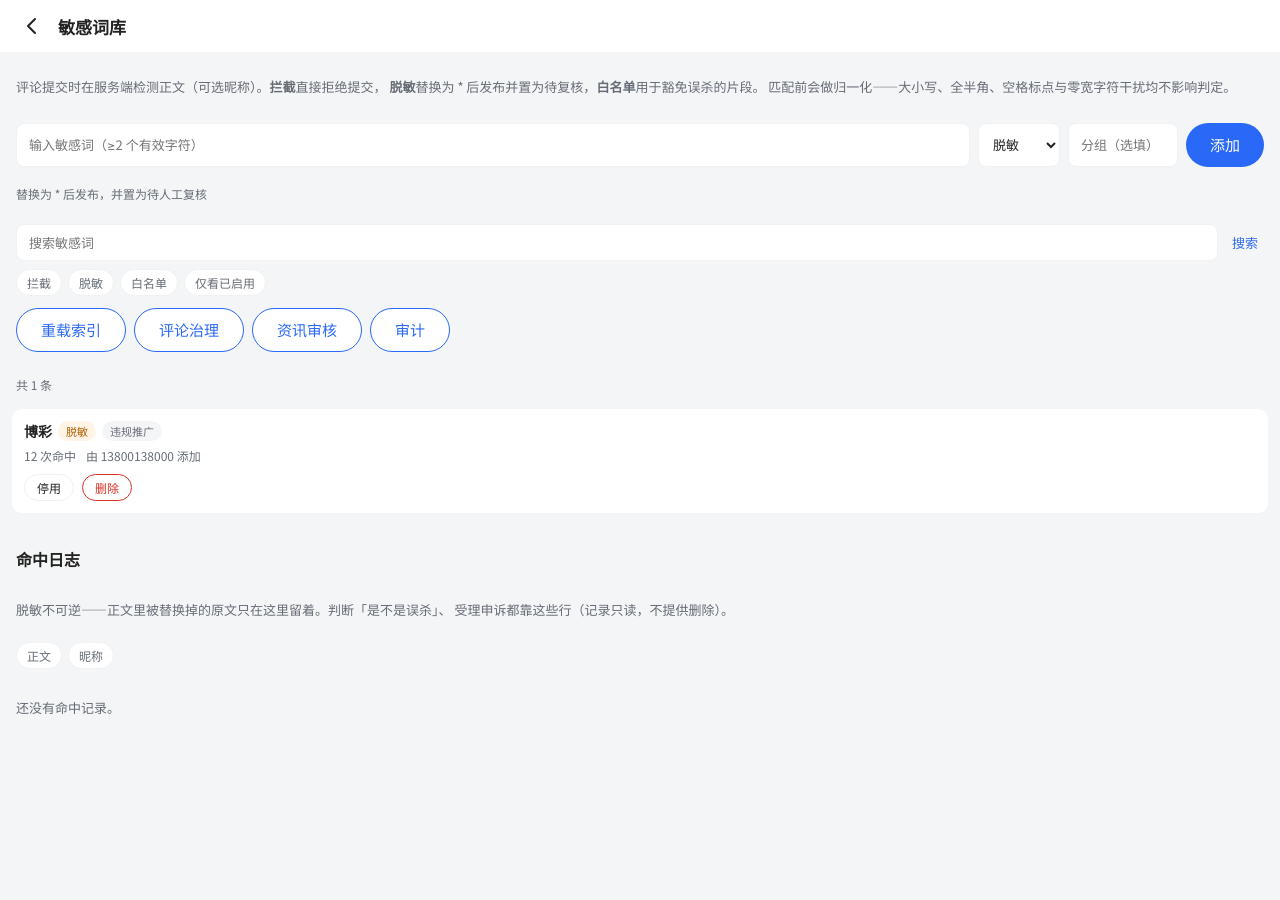
Scenario: views/AdminWords 新增与维护 › 重载索引提示生效条数
Click the button "重载索引" at (71, 330), box [16,308,126,352]
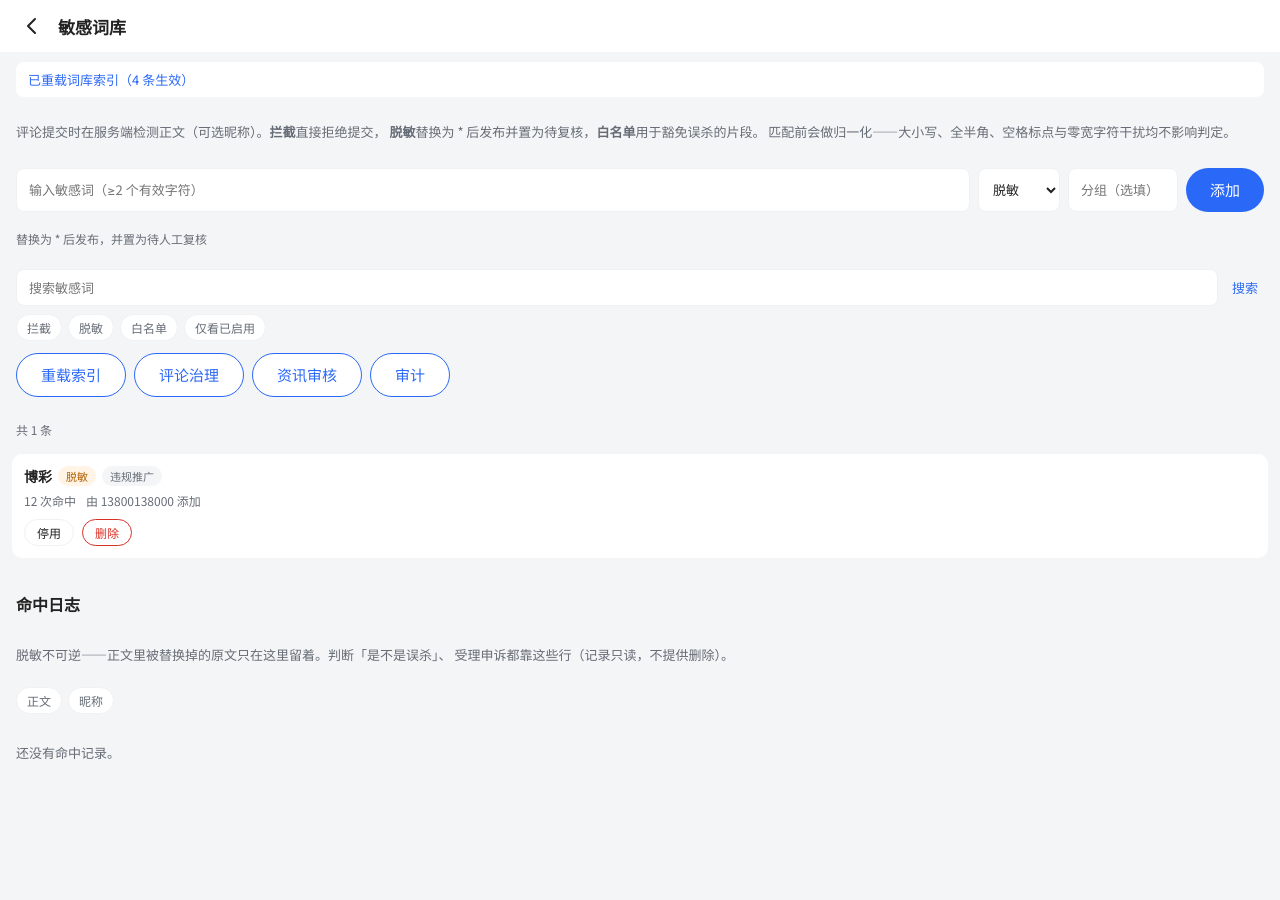
Check: the text "已重载词库索引（4 条生效）" is shown, box [16,62,1264,97]
